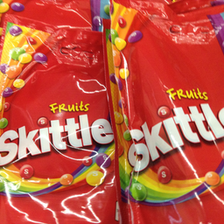candy: (107, 4, 224, 222), (3, 21, 116, 224)
